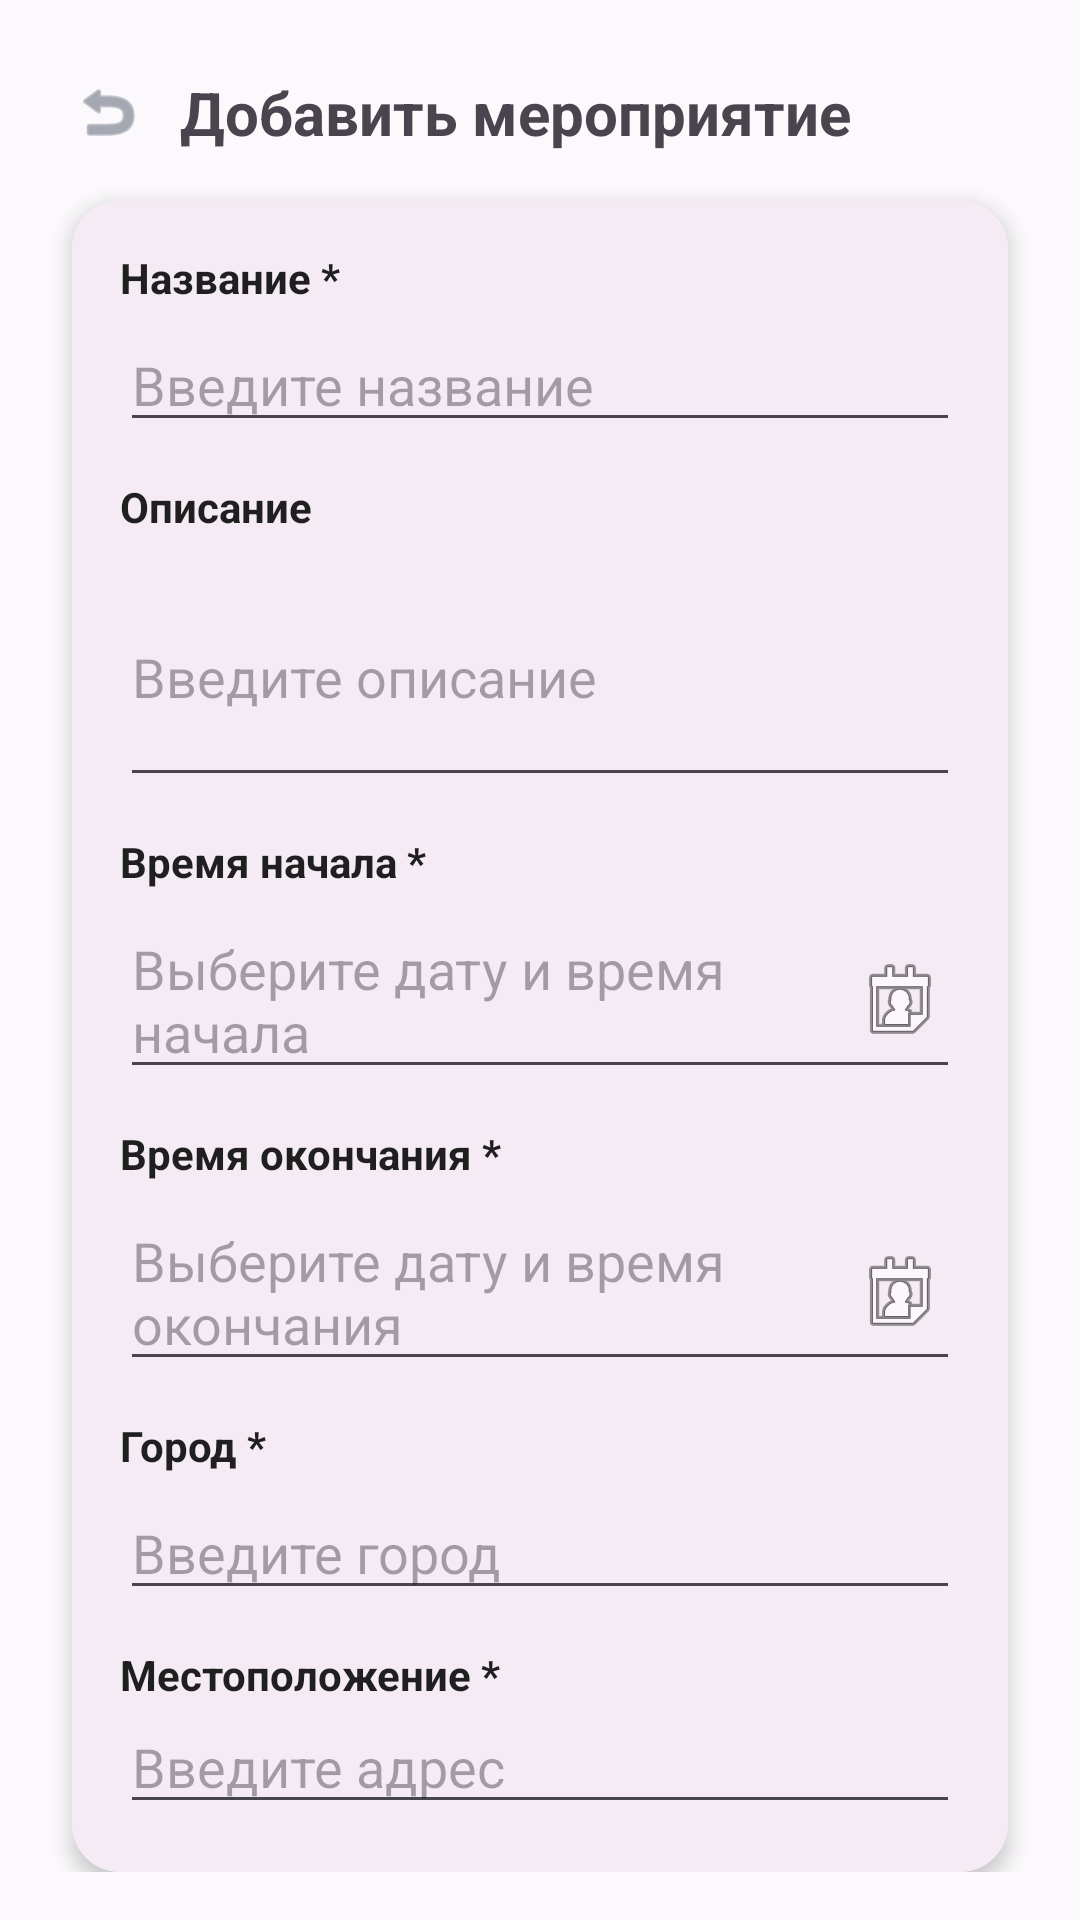

Icon bounding boxes for this 1080×1920 phone screenshot, format detection(x1, y1, x2, y2):
Назад: detection(83, 89, 135, 136)
